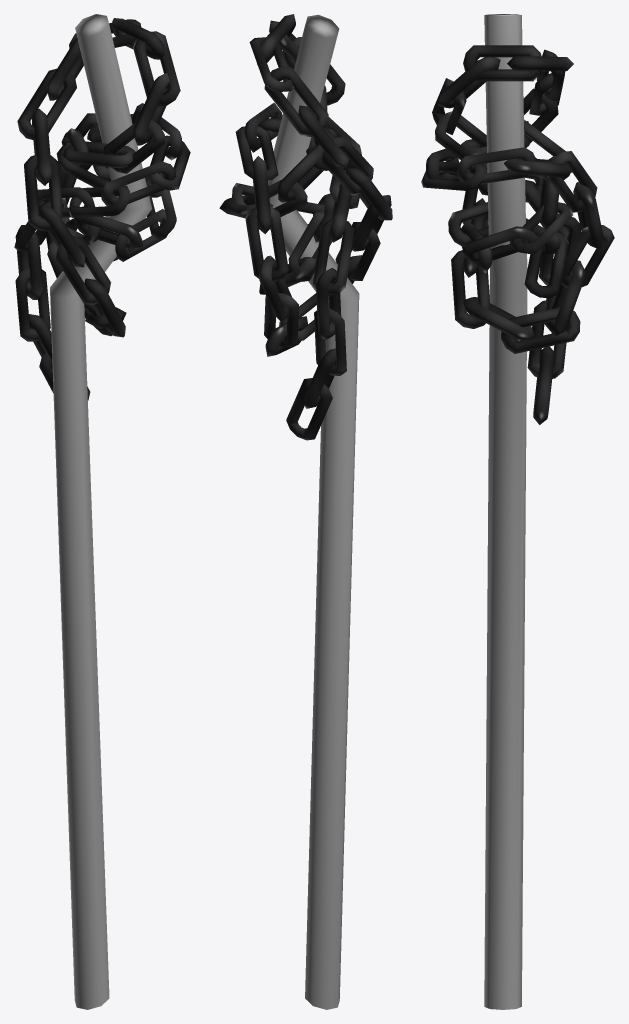
File: SlackWeapon.fbx
3 views of the same model, side by side, from view 1: azimuth 30°, elevation 25°; view 2: azimuth 150°, elevation 25°; view 3: azimuth 270°, elevation 25° (orthographic).
Parts seen in each view (by area): view 1: SlackWeapon; view 2: SlackWeapon; view 3: SlackWeapon.
Boxes of the visible parts, x1,y1,x2,y2 form: SlackWeapon: [14, 14, 190, 1009]; SlackWeapon: [219, 14, 392, 1009]; SlackWeapon: [421, 14, 614, 1009].
Bounding box in the file's own units: 19.37 × 118 × 20.7.
